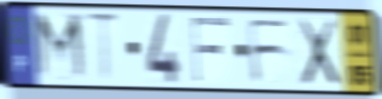4: (144, 11, 183, 88)
F: (245, 18, 294, 86), (189, 15, 231, 85)
M: (32, 10, 90, 84)
T: (84, 10, 122, 86)
X: (295, 17, 342, 89)
